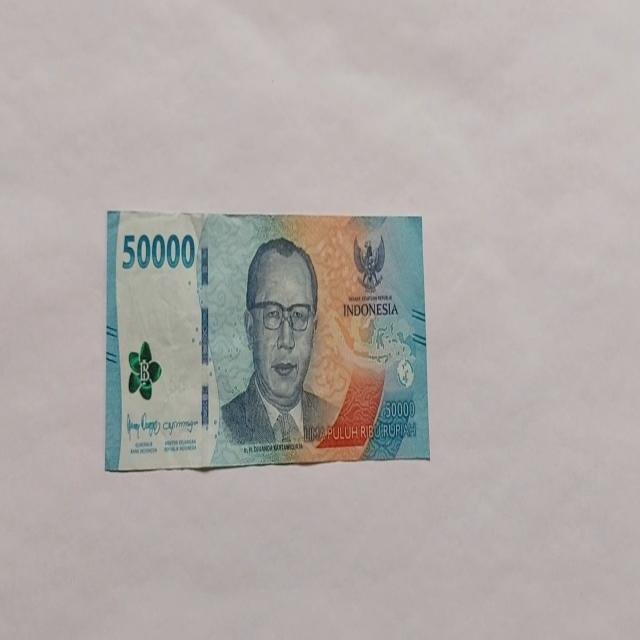lima puluh ribu rupiah: (104, 209, 430, 472), (216, 235, 342, 452)
